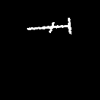double_crochet: (27, 18, 70, 33)
